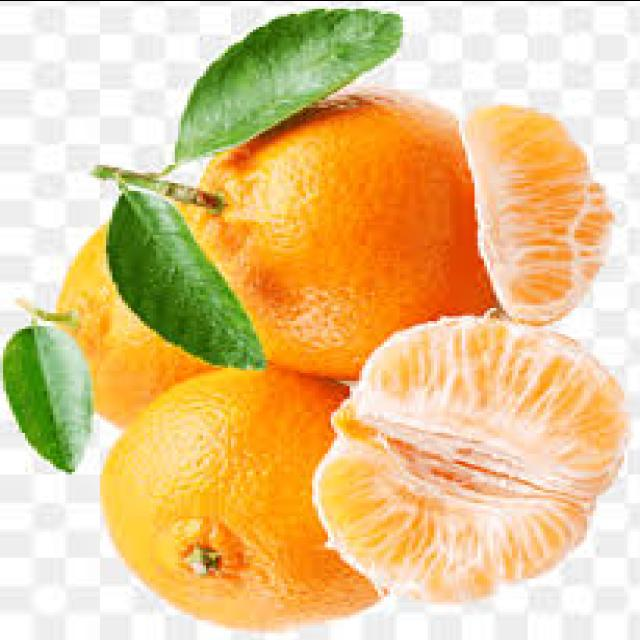orange: (91, 381, 407, 636)
